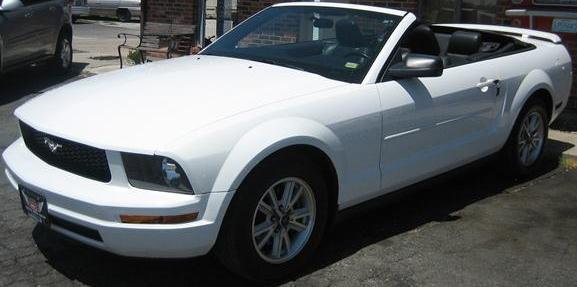front_view: (9, 101, 229, 260)
headlight: (105, 141, 228, 215)
side_glass: (353, 7, 520, 79)
